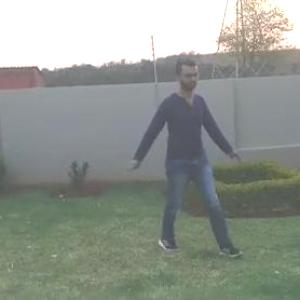land: (116, 53, 243, 264)
